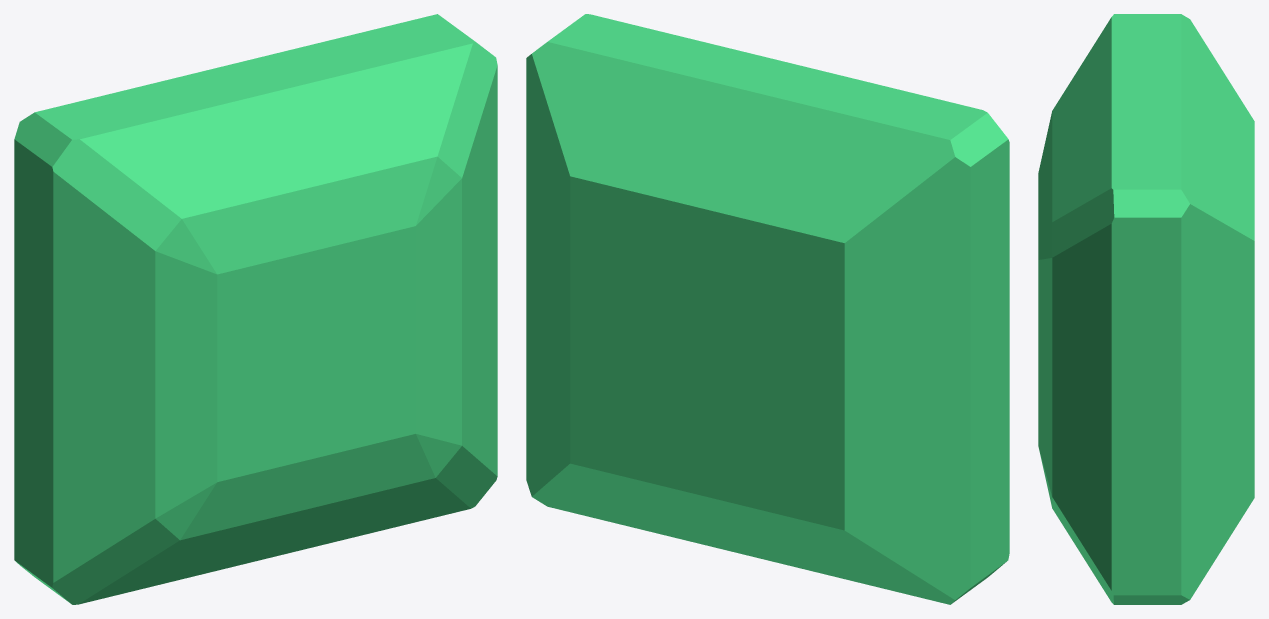
File: diamond-den4 (1).fbx
The picture shows the model from 3 angles, left to right: view 1: azimuth 30°, elevation 25°; view 2: azimuth 150°, elevation 25°; view 3: azimuth 270°, elevation 25°; orthographic projection. The views are drawn at different scales.
Parts seen in each view (by area): view 1: uploads_files_310837_diamonds; view 2: uploads_files_310837_diamonds; view 3: uploads_files_310837_diamonds.
Part boxes in pixels (box(x1,y1,x2,y2)): uploads_files_310837_diamonds: box(14, 14, 497, 604); uploads_files_310837_diamonds: box(526, 14, 1009, 604); uploads_files_310837_diamonds: box(1038, 14, 1254, 604).
Bounding box in the file's own units: 423 × 423 × 200.
